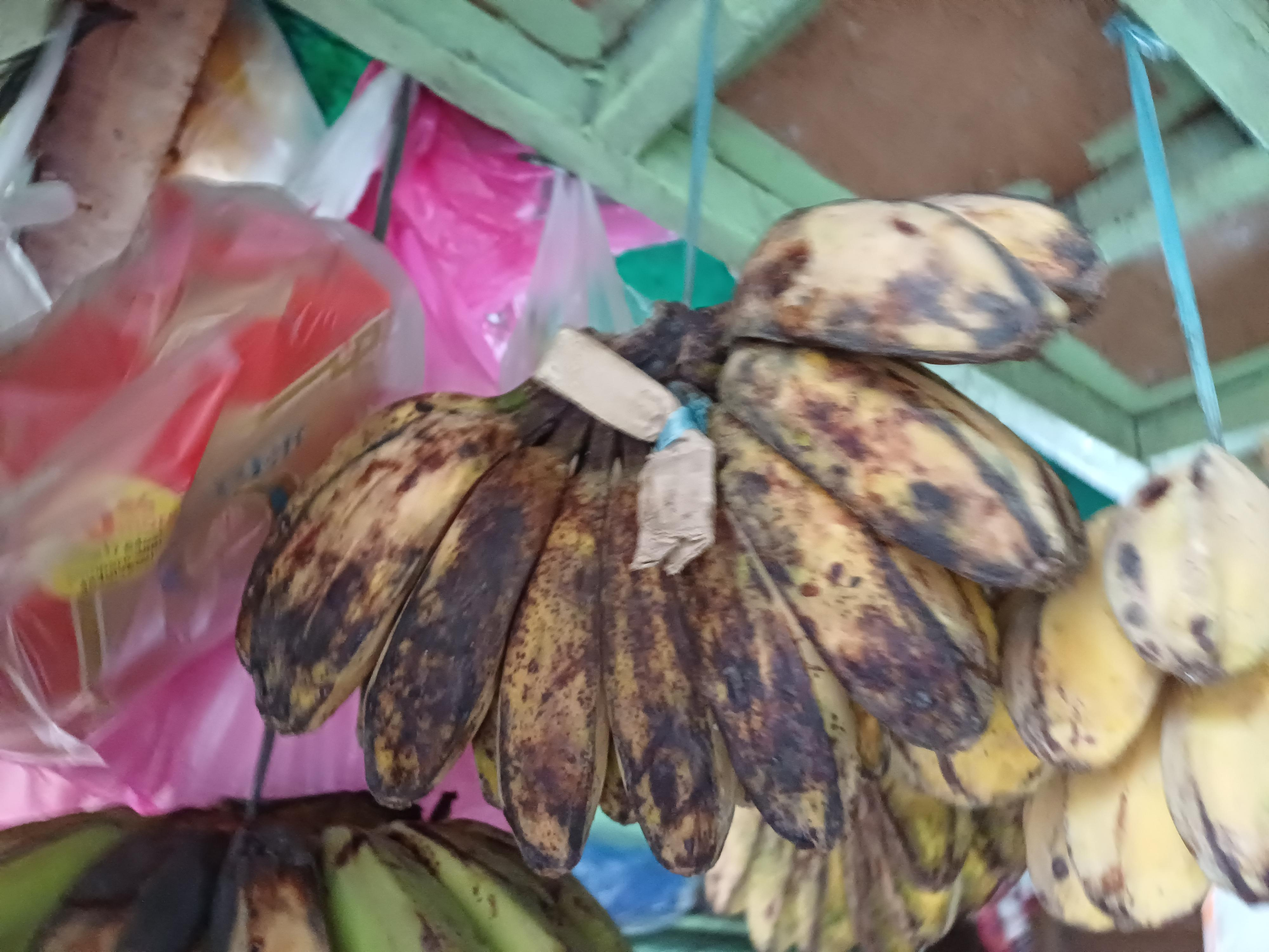ripe: (239, 193, 1111, 876), (875, 439, 1269, 932)
underripe: (704, 699, 1027, 952)
